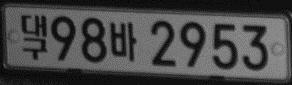2: (151, 20, 176, 66)
3: (241, 24, 268, 71)
5: (211, 23, 237, 69)
8: (81, 17, 107, 62)
9: (180, 20, 206, 67), (50, 15, 76, 60)
대구_V: (21, 13, 47, 60)
바: (110, 21, 136, 61)
